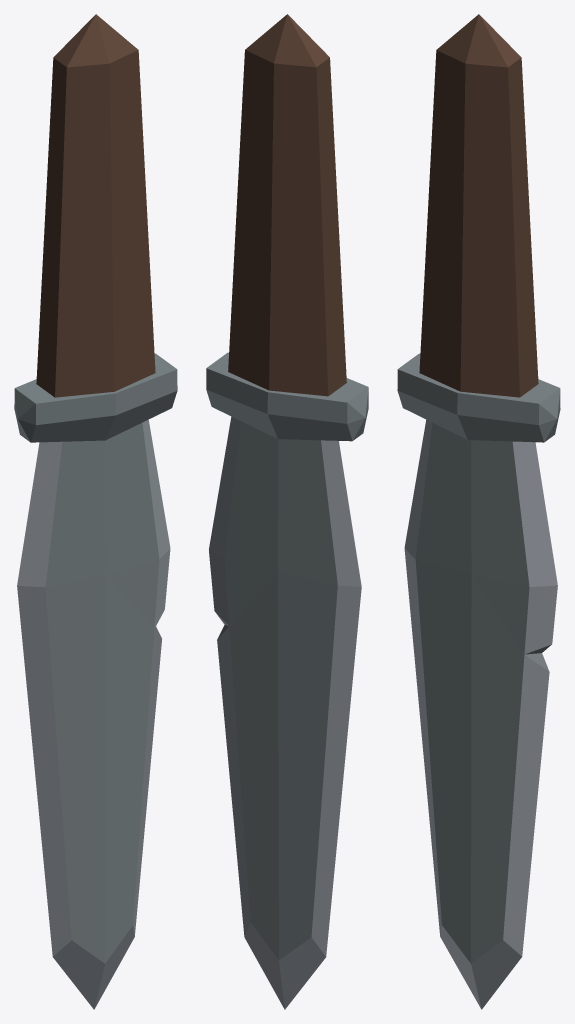
File: PT_Medieval_Dagger_01.fbx
3 renders of one model, left to right at view 1: azimuth 30°, elevation 25°; view 2: azimuth 150°, elevation 25°; view 3: azimuth 330°, elevation 25°, orthographic.
Visible parts, largest first — view 1: PT_Medieval_Dagger_01; view 2: PT_Medieval_Dagger_01; view 3: PT_Medieval_Dagger_01.
Part boxes in pixels (bbox=[...]): PT_Medieval_Dagger_01: bbox=[14, 14, 177, 1009]; PT_Medieval_Dagger_01: bbox=[206, 14, 368, 1009]; PT_Medieval_Dagger_01: bbox=[397, 14, 560, 1009].
Size of the model in its own units: 6.04 by 36.77 by 2.77.
